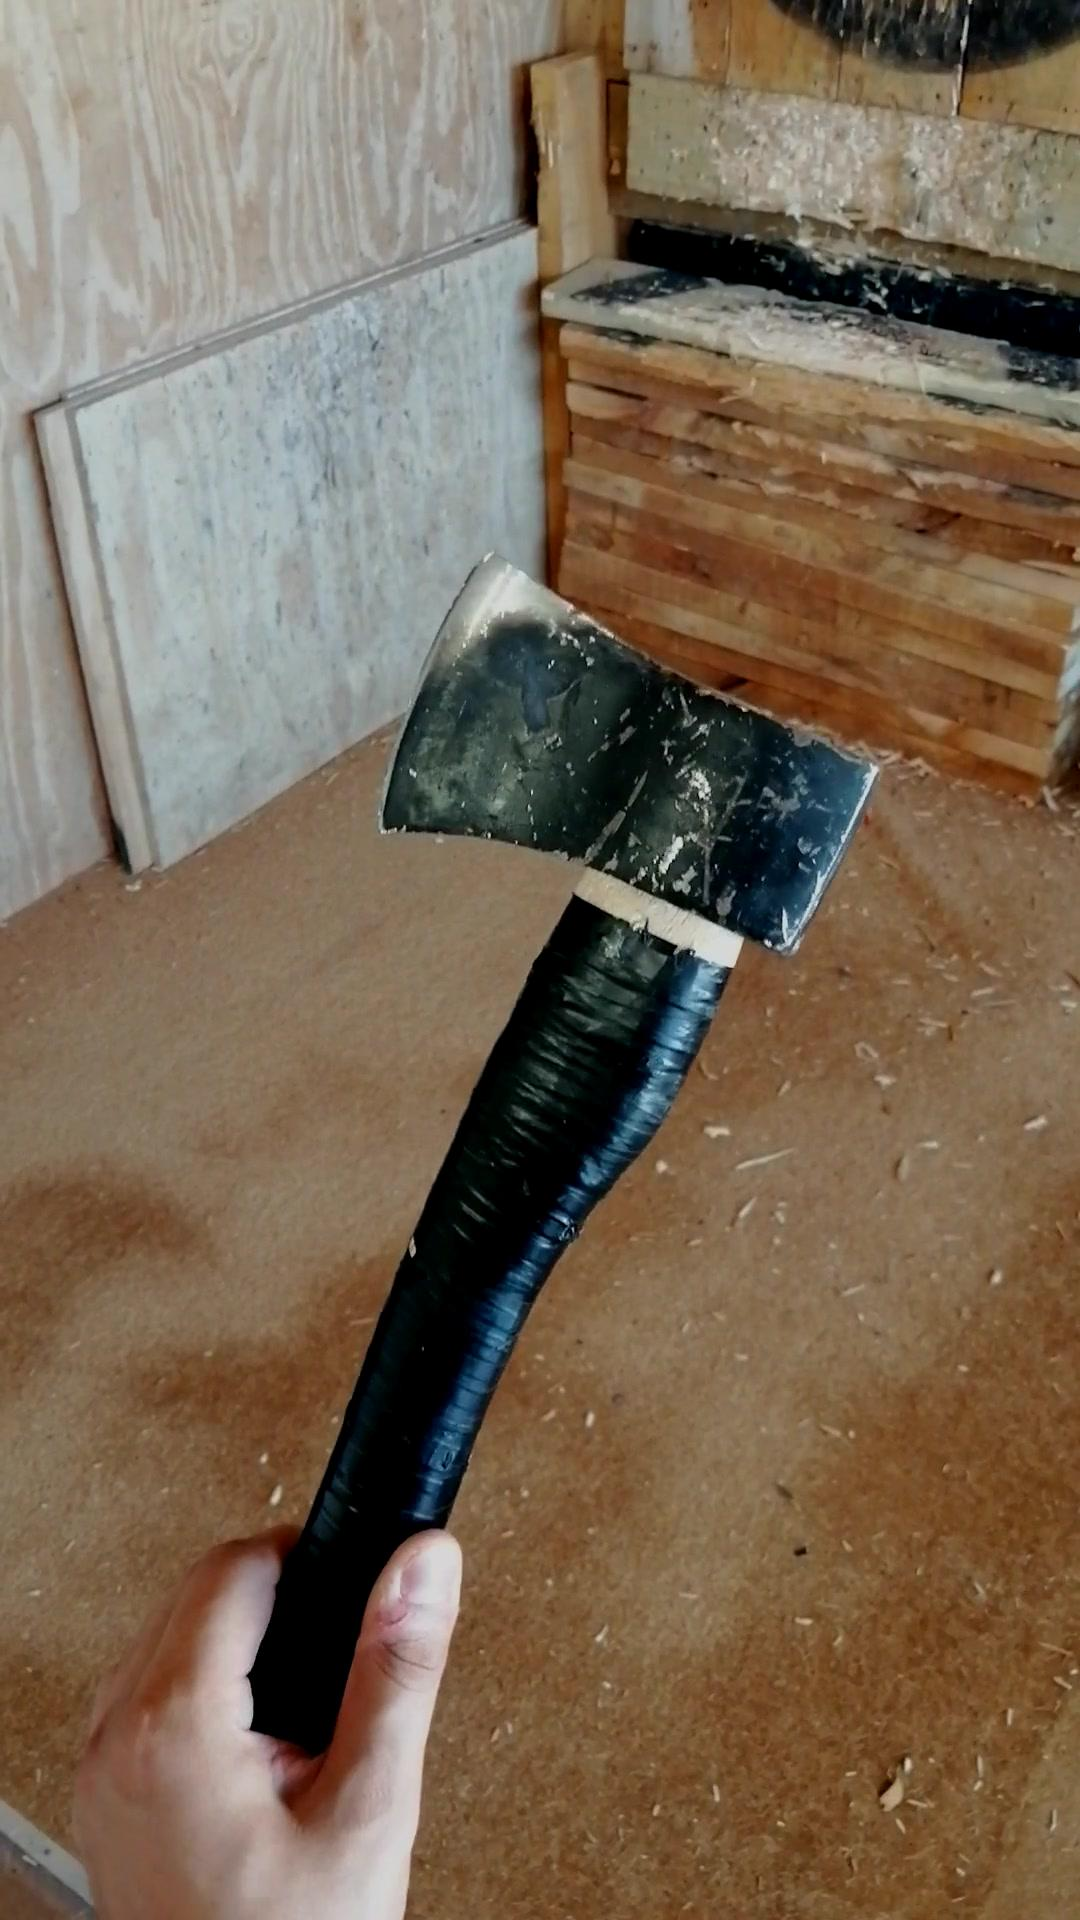Hand Axe: (373, 545, 884, 963)
